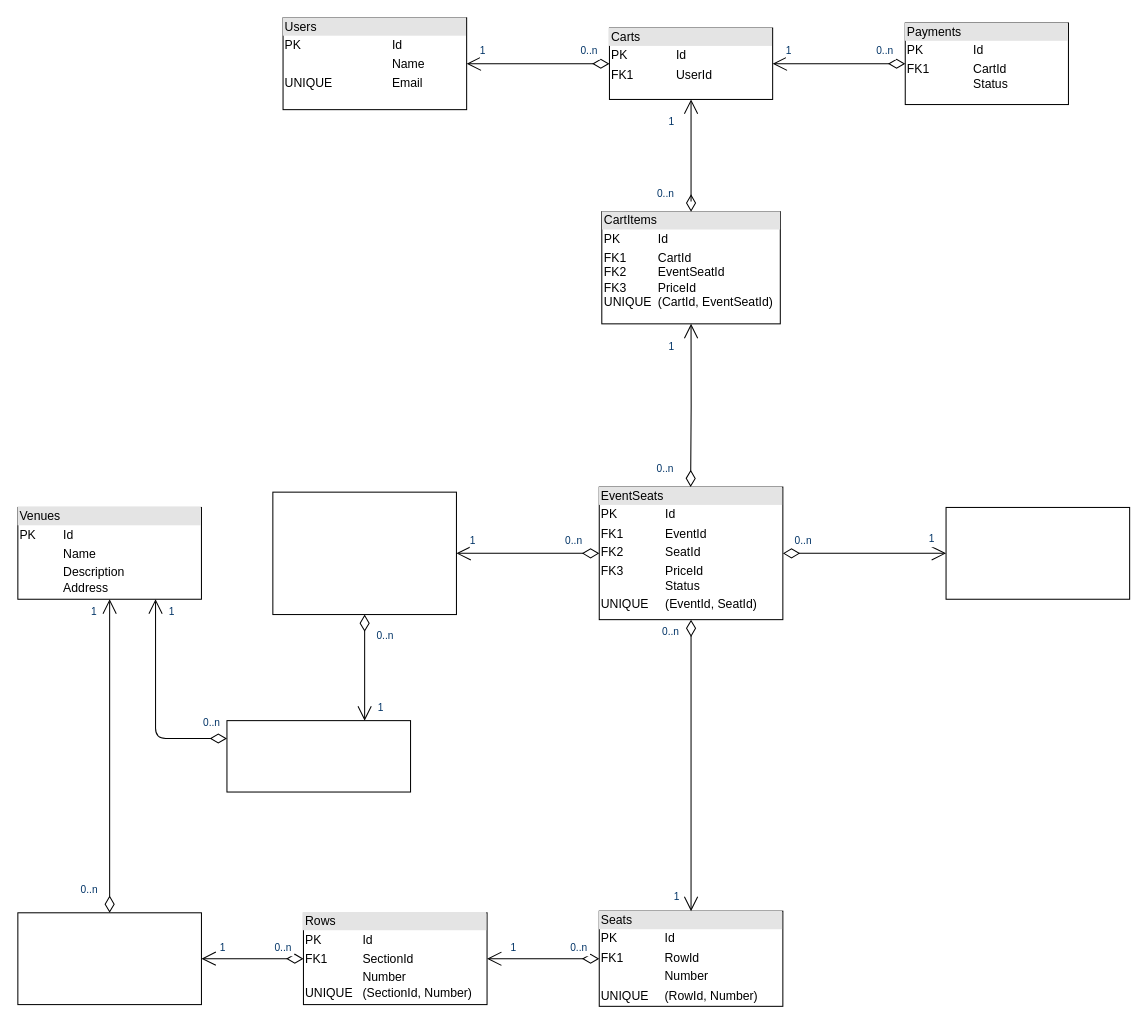
The diagram is 1148 pixels wide and 1025 high, and some of its shapes have lost their labels. Here are the shapes that lost their labels. From the top down, the centre of each, then its label:
pixel 364 553: Events PK Id FK1 ManifestId Name Description StartDate EndDate
pixel 1037 552: Prices PK Id Type Price
pixel 318 756: Manifests PK Id FK1 VenueId
pixel 109 958: Sections PK Id FK1 VenueId UNIQUE Name (VenueId, Name)
